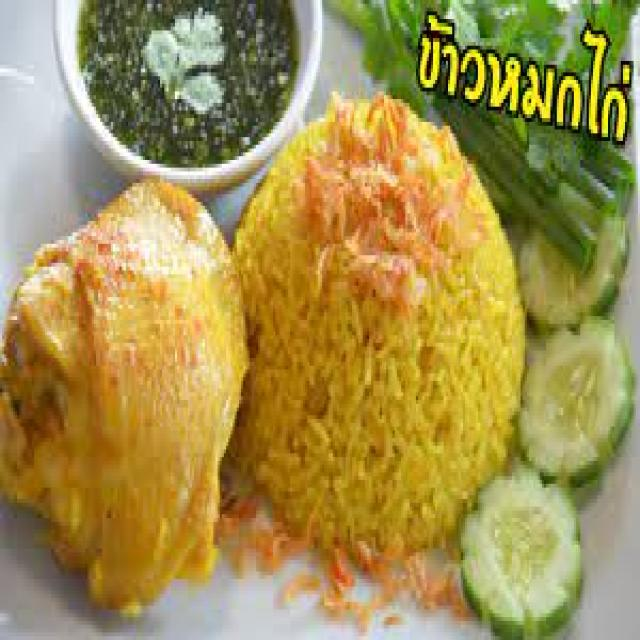Carbohydrate: (228, 91, 521, 548)
Kaow-Mokkai: (0, 18, 640, 640)
Protein: (0, 171, 247, 601)
Vegetable: (342, 0, 636, 623)
